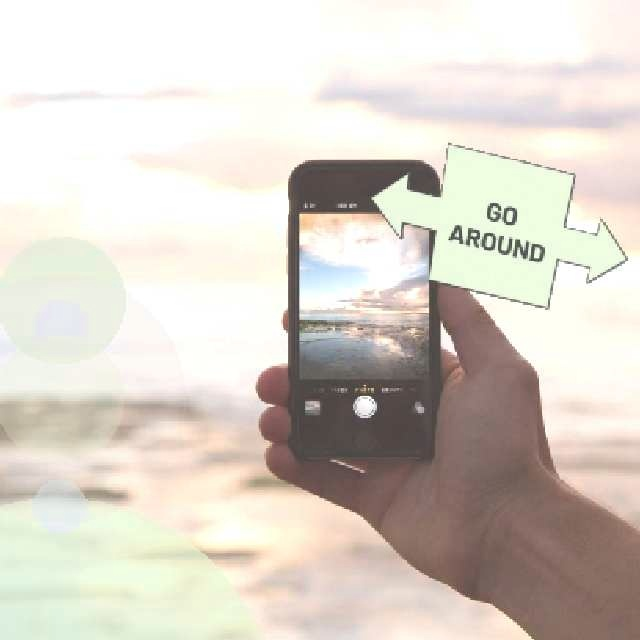GO_AROUND: (368, 141, 627, 308)
